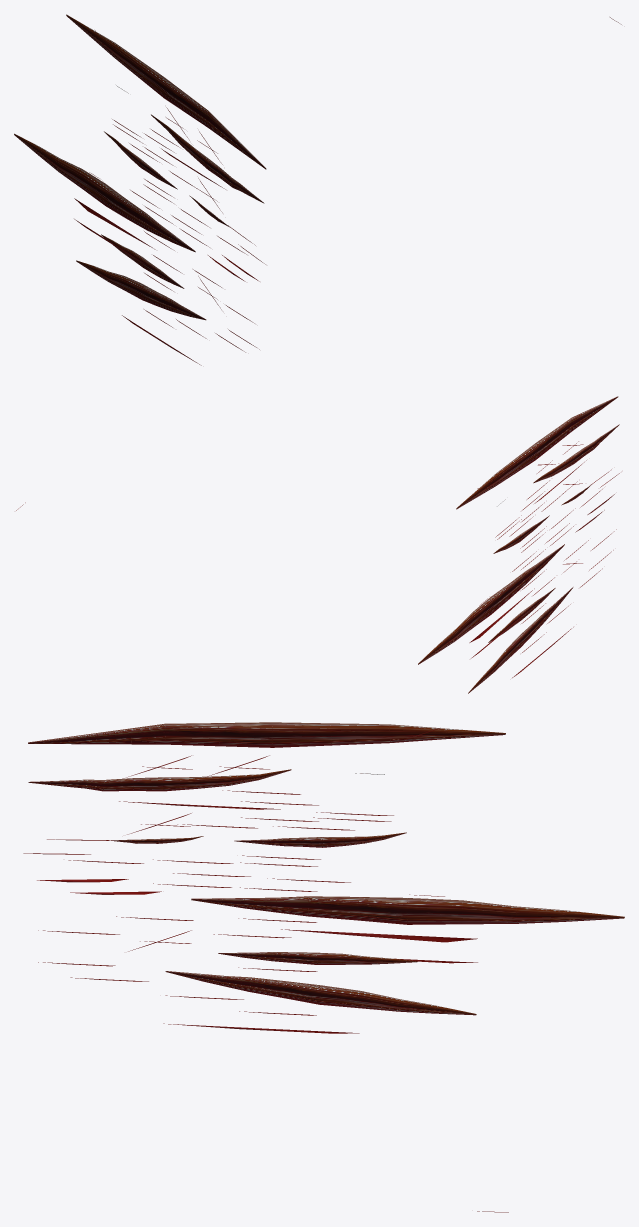
The model's file is golden_lab.glb.
The picture shows the model from 3 angles, top to bottom: view 1: azimuth 30°, elevation 25°; view 2: azimuth 150°, elevation 25°; view 3: azimuth 270°, elevation 25°; orthographic projection. The views are drawn at different scales.
Parts seen in each view (by area): view 1: wound_main, Plane.014, Plane.024, Plane.025, Plane.002; view 2: wound_main, Plane.014, Plane.024, Plane.025; view 3: wound_main, Plane.014, Plane.024, Plane.025, Plane.002, Plane.001, Plane.013.
Part boxes in pixels (x1=…): wound_main: x1=66, y1=14, x2=266, y2=169; Plane.014: x1=14, y1=133, x2=195, y2=252; Plane.024: x1=76, y1=260, x2=206, y2=320; Plane.025: x1=151, y1=114, x2=264, y2=203; Plane.002: x1=101, y1=234, x2=184, y2=288; wound_main: x1=456, y1=396, x2=618, y2=509; Plane.014: x1=418, y1=544, x2=564, y2=664; Plane.024: x1=468, y1=587, x2=573, y2=693; Plane.025: x1=533, y1=424, x2=619, y2=483; wound_main: x1=28, y1=722, x2=505, y2=747; Plane.014: x1=191, y1=896, x2=624, y2=924; Plane.024: x1=165, y1=971, x2=476, y2=1015; Plane.025: x1=28, y1=769, x2=291, y2=791; Plane.002: x1=218, y1=952, x2=417, y2=964; Plane.001: x1=234, y1=832, x2=406, y2=847; Plane.013: x1=281, y1=929, x2=477, y2=942.
Size of the model in its own units: 0.0531 by 0.0243 by 0.0428.
31 materials, 31 textured.
